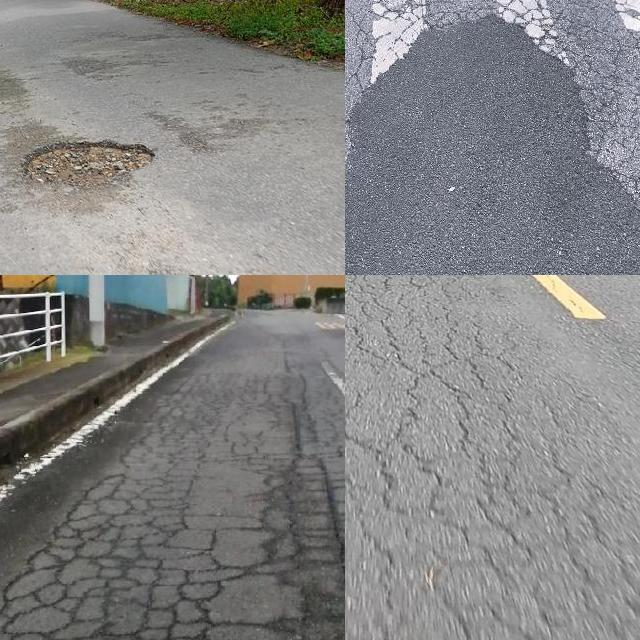Lubang: (22, 141, 154, 194)
Retak Buaya: (345, 275, 640, 640), (0, 364, 345, 640)
Sambungan: (345, 16, 640, 275)
